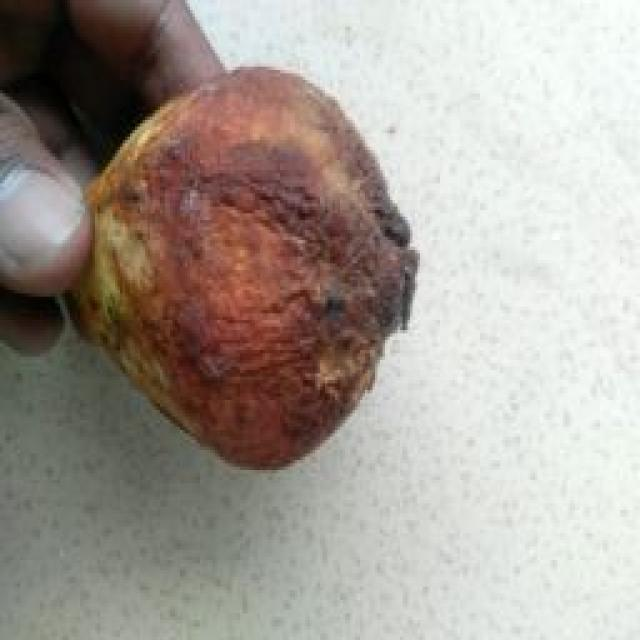Bad_Guava: (70, 68, 418, 466)
